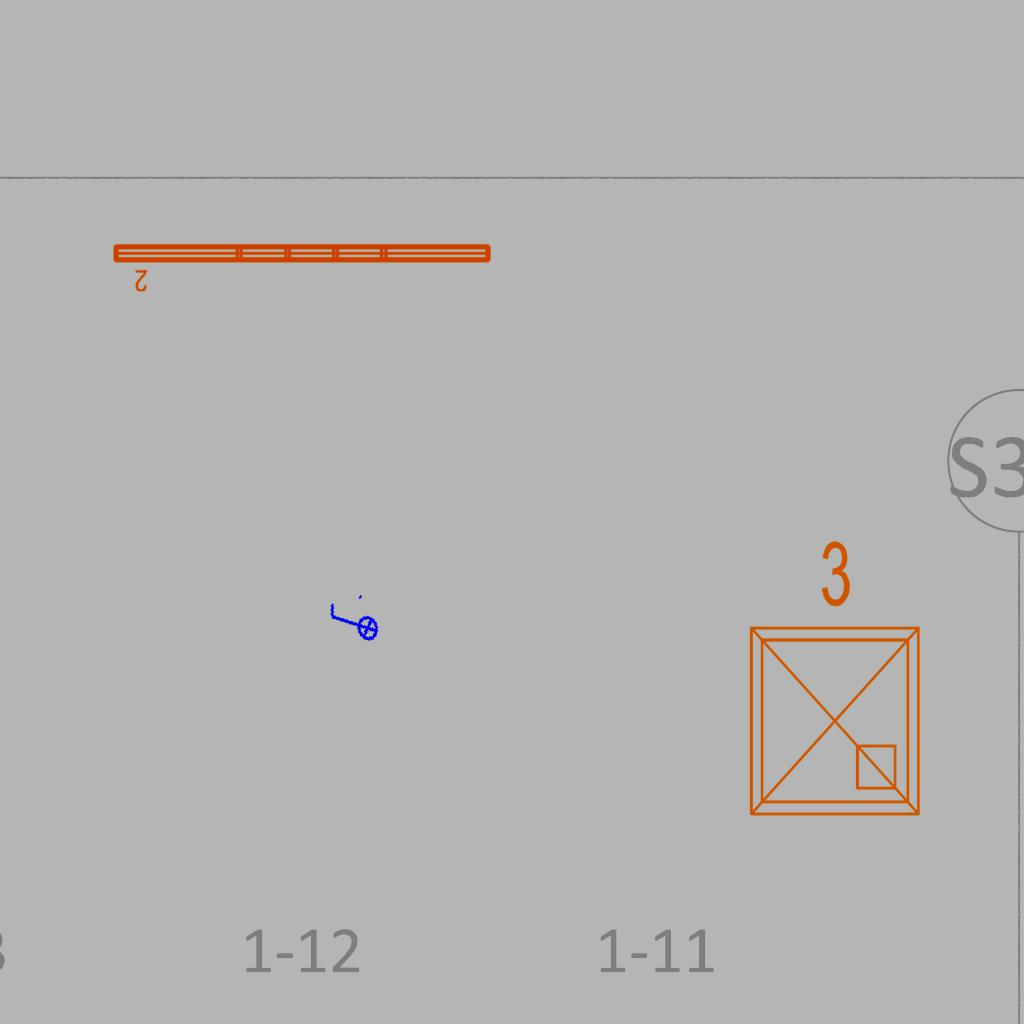Ambulanz_Pendelleuchte_LED: (109, 238, 496, 294)
Ausschalter_beleuchtet: (322, 590, 384, 656)
Einbaudownlights_LED_Konferenzraeume: (727, 530, 935, 830)
